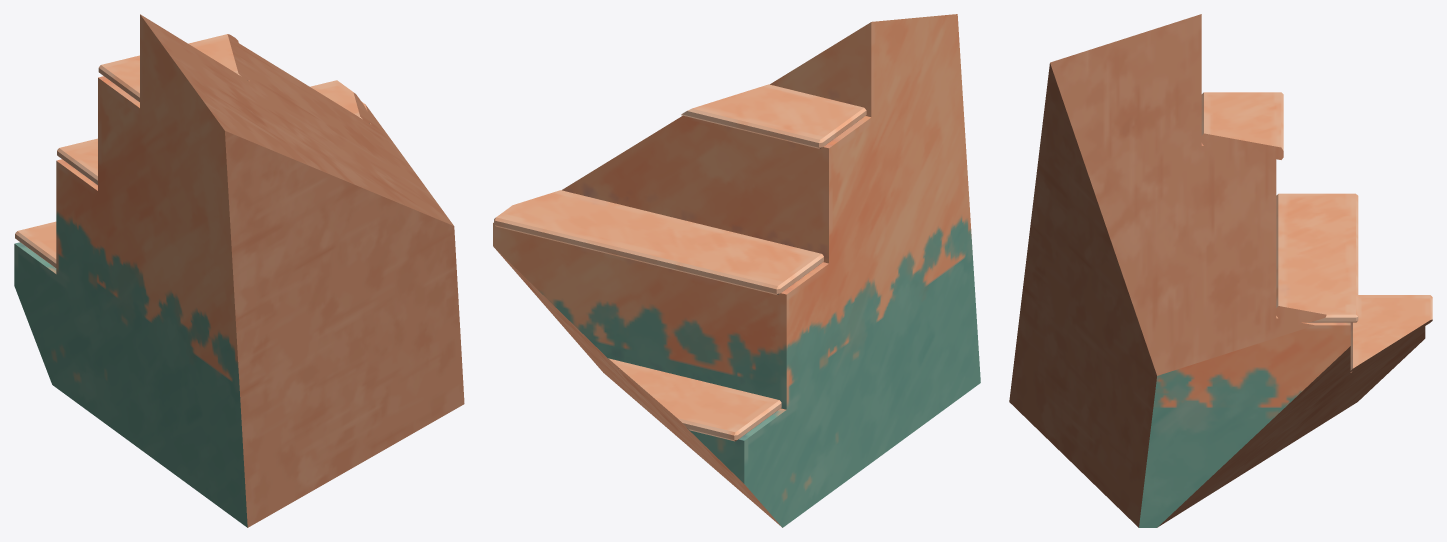
Rendered from stairs_narrow_s03.fbx.
3 renders of one model, left to right at view 1: azimuth 30°, elevation 25°; view 2: azimuth 150°, elevation 25°; view 3: azimuth 270°, elevation 25°, orthographic. The views are drawn at different scales.
Visible parts, largest first — view 1: stairs_narrow_s03; view 2: stairs_narrow_s03; view 3: stairs_narrow_s03.
Part boxes in pixels (x1=…): stairs_narrow_s03: x1=14, y1=14, x2=464, y2=527; stairs_narrow_s03: x1=493, y1=14, x2=980, y2=527; stairs_narrow_s03: x1=1009, y1=14, x2=1432, y2=527.
Size of the model in its own units: 4 by 5.74 by 5.68.
